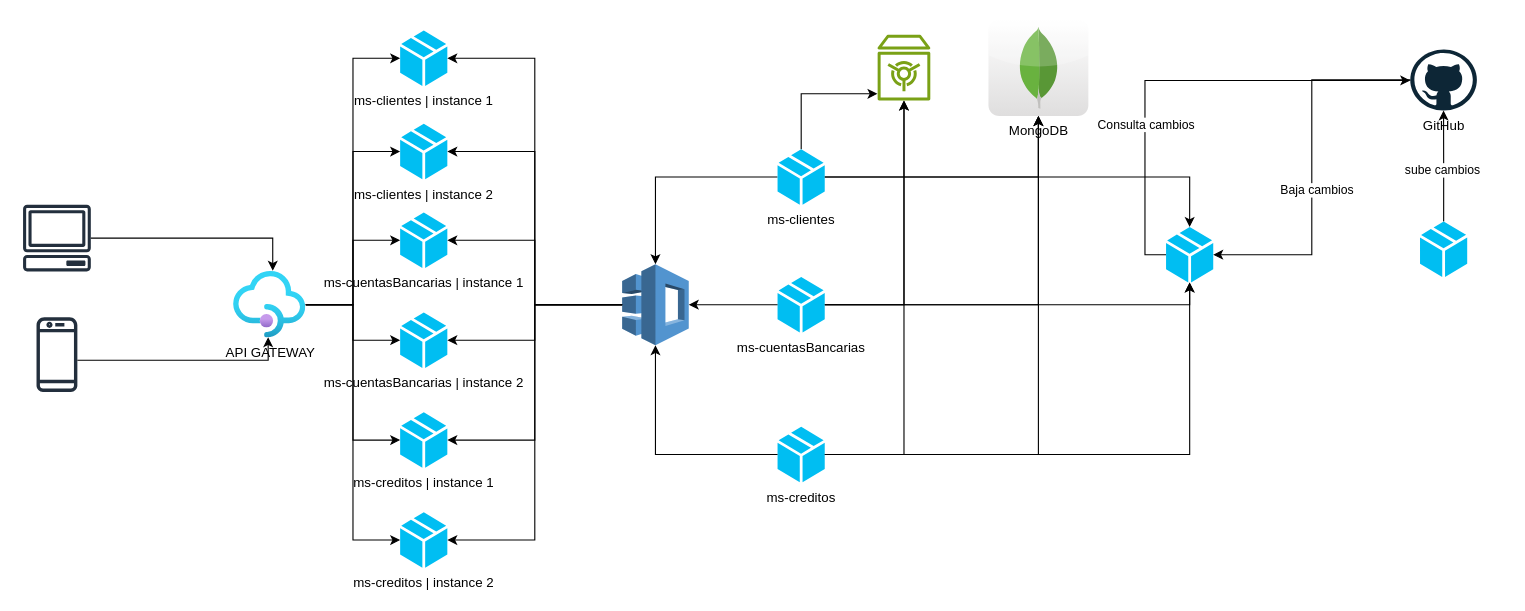
The diagram is 1525 pixels wide and 611 high, and some of its shapes have lost their labels. Here are the shapes that lost their labels. From the top down, the centre of each, then its label:
the point at 903,67: HashiCorp Vault
the point at 56,237: Cliente web
the point at 1189,254: configServer
the point at 1443,248: service-configuration
the point at 655,304: Discovery Service
the point at 56,354: Cliente móvil
